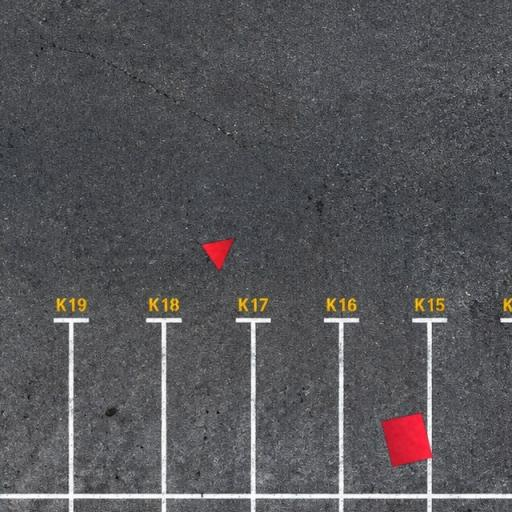RED_SQUARE: (380, 412, 434, 467)
